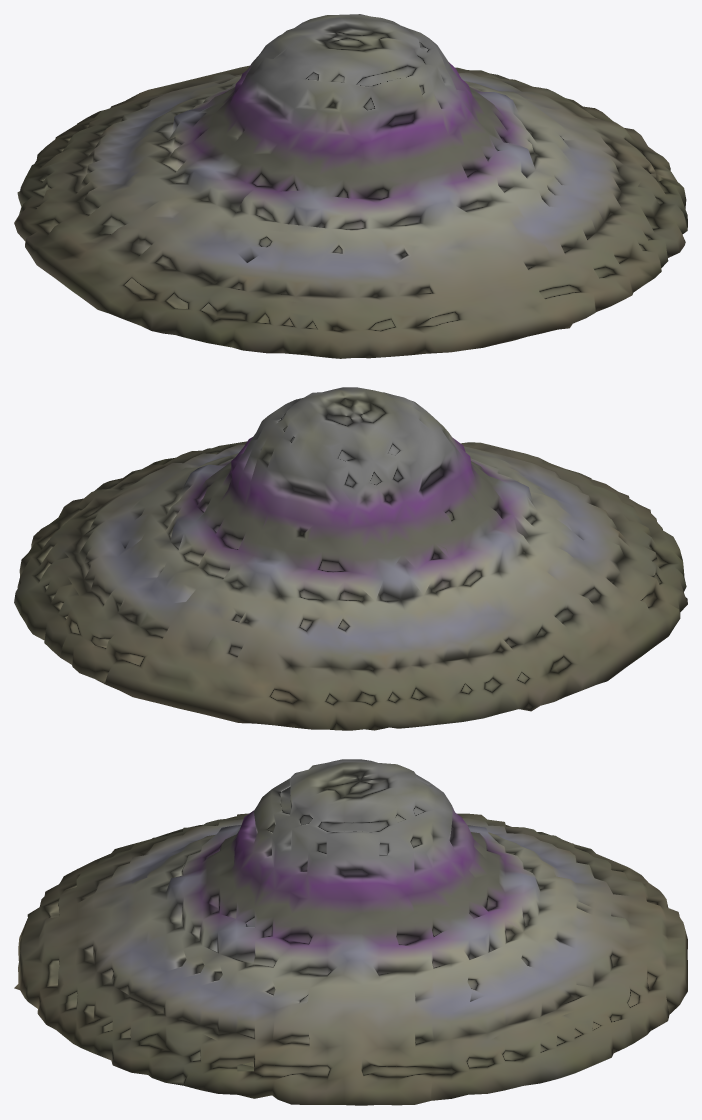
The model's file is floating_disc.glb.
3 renders of one model, top to bottom at view 1: azimuth 30°, elevation 25°; view 2: azimuth 150°, elevation 25°; view 3: azimuth 270°, elevation 25°, orthographic.
Parts seen in each view (by area): view 1: floating_disc; view 2: floating_disc; view 3: floating_disc.
Boxes of the visible parts, box(x1,y1,x2,y2) form: floating_disc: box(14, 14, 687, 358); floating_disc: box(14, 387, 687, 730); floating_disc: box(14, 759, 687, 1105).
Bounding box in the file's own units: 6.07 × 2.83 × 6.11.
